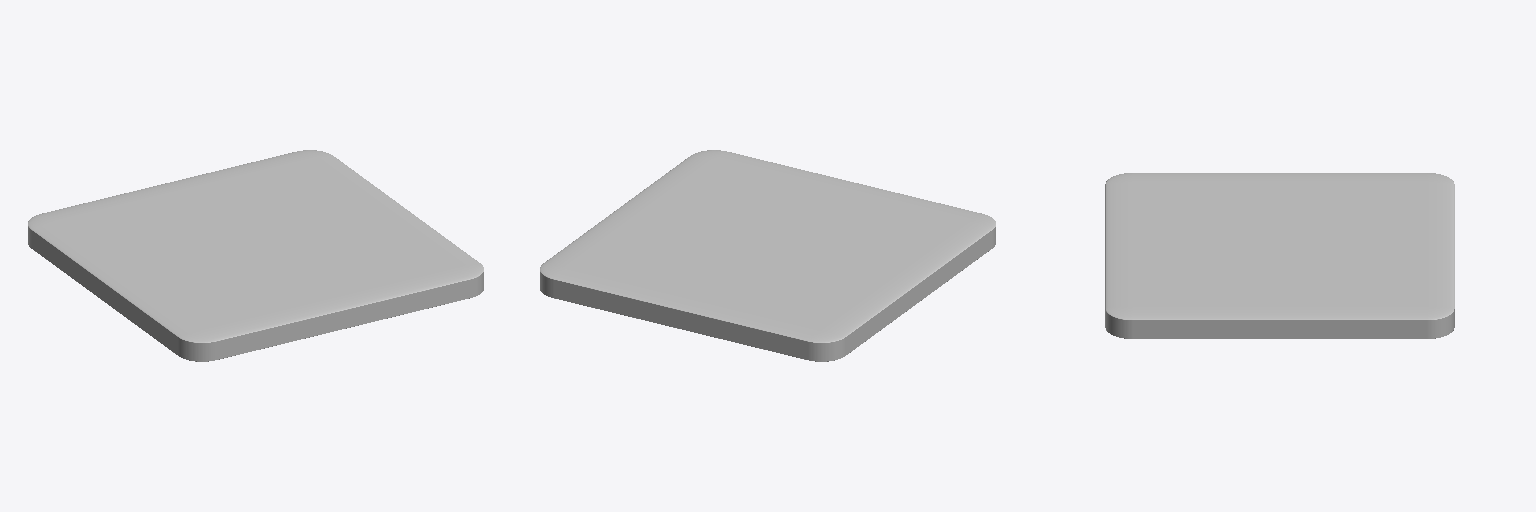
File: path_tiles.obj
3 renders of one model, left to right at view 1: azimuth 30°, elevation 25°; view 2: azimuth 150°, elevation 25°; view 3: azimuth 270°, elevation 25°, orthographic.
Parts seen in each view (by area): view 1: Cube; view 2: Cube; view 3: Cube.
Part boxes in pixels (x1,y1,x2,y2): Cube: (28,150,483,361); Cube: (540,150,995,361); Cube: (1105,173,1454,338).
Size of the model in its own units: 2 by 0.14 by 2.